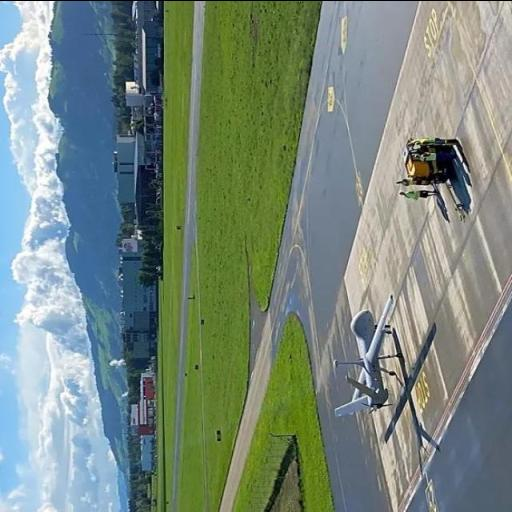uav: (330, 289, 410, 420)
